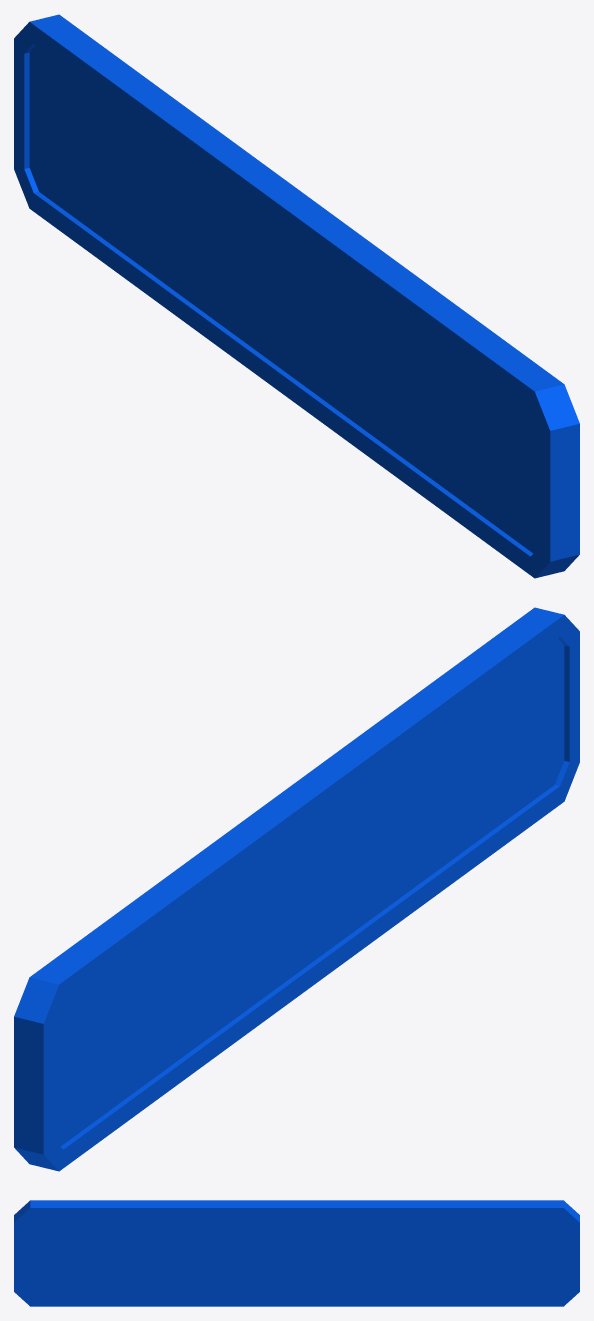
Rendered from Cartel_Sign.fbx.
The picture shows the model from 3 angles, top to bottom: view 1: azimuth 30°, elevation 25°; view 2: azimuth 150°, elevation 25°; view 3: azimuth 270°, elevation 25°; orthographic projection. The views are drawn at different scales.
Parts seen in each view (by area): view 1: Cartel_Sign; view 2: Cartel_Sign; view 3: Cartel_Sign.
Part boxes in pixels (box(x1,y1,x2,y2)): Cartel_Sign: box(14, 14, 579, 578); Cartel_Sign: box(14, 607, 579, 1171); Cartel_Sign: box(14, 1200, 579, 1306).
Bounding box in the file's own units: 16.67 × 100 × 520.
